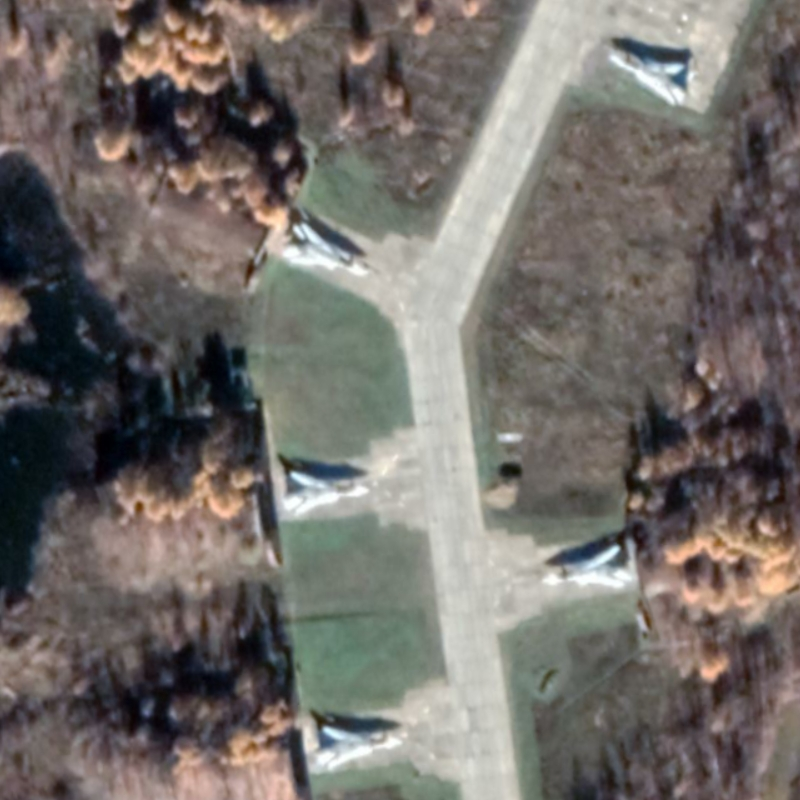A20: (280, 220, 370, 279), (606, 52, 697, 107), (536, 541, 634, 591), (311, 722, 405, 773), (279, 468, 371, 518)
